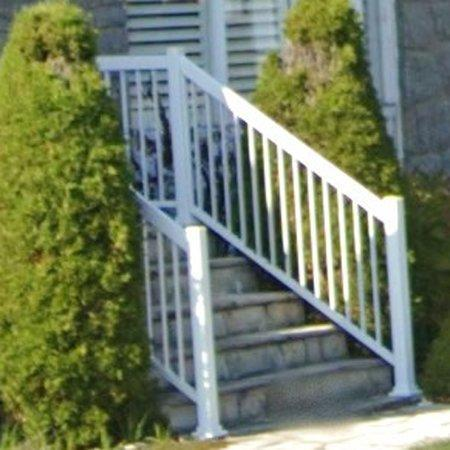stairs: (211, 256, 394, 428), (144, 223, 195, 396), (159, 379, 196, 435)
